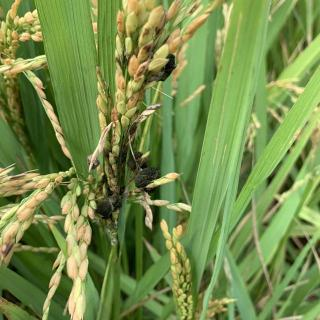Gosong-Palsu: (127, 148, 162, 188), (150, 51, 177, 82), (94, 193, 124, 220)
